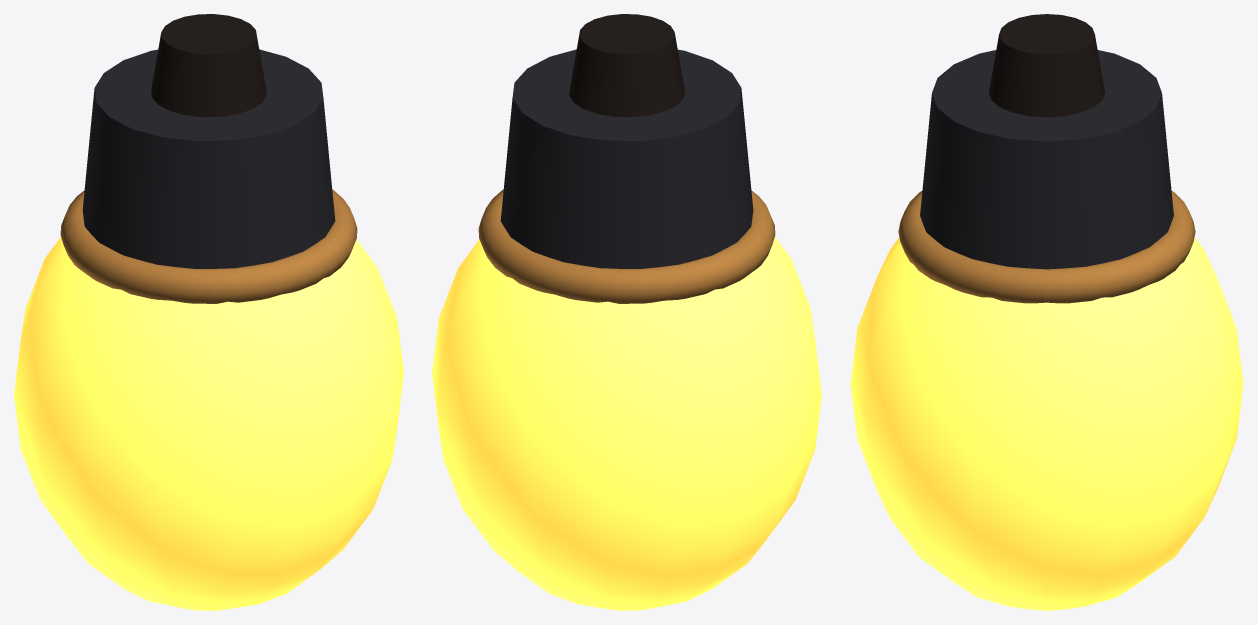
The model's file is mia-string_lights.glb.
3 views of the same model, side by side, from view 1: azimuth 30°, elevation 25°; view 2: azimuth 150°, elevation 25°; view 3: azimuth 270°, elevation 25° (orthographic).
Parts seen in each view (by area): view 1: Body_amber, Body_iron, Body_brass, Body_black; view 2: Body_amber, Body_iron, Body_brass, Body_black; view 3: Body_amber, Body_iron, Body_brass, Body_black.
Part boxes in pixels (bbox=[...]): Body_amber: bbox=[14, 237, 403, 610]; Body_iron: bbox=[82, 49, 335, 268]; Body_brass: bbox=[60, 189, 357, 303]; Body_black: bbox=[151, 14, 266, 117]; Body_amber: bbox=[432, 237, 821, 610]; Body_iron: bbox=[500, 49, 753, 268]; Body_brass: bbox=[478, 189, 775, 303]; Body_black: bbox=[569, 14, 684, 117]; Body_amber: bbox=[850, 237, 1243, 610]; Body_iron: bbox=[920, 50, 1173, 269]; Body_brass: bbox=[898, 191, 1195, 303]; Body_black: bbox=[989, 14, 1104, 117].
Bounding box in the file's own units: 0.082 × 0.1295 × 0.082.
